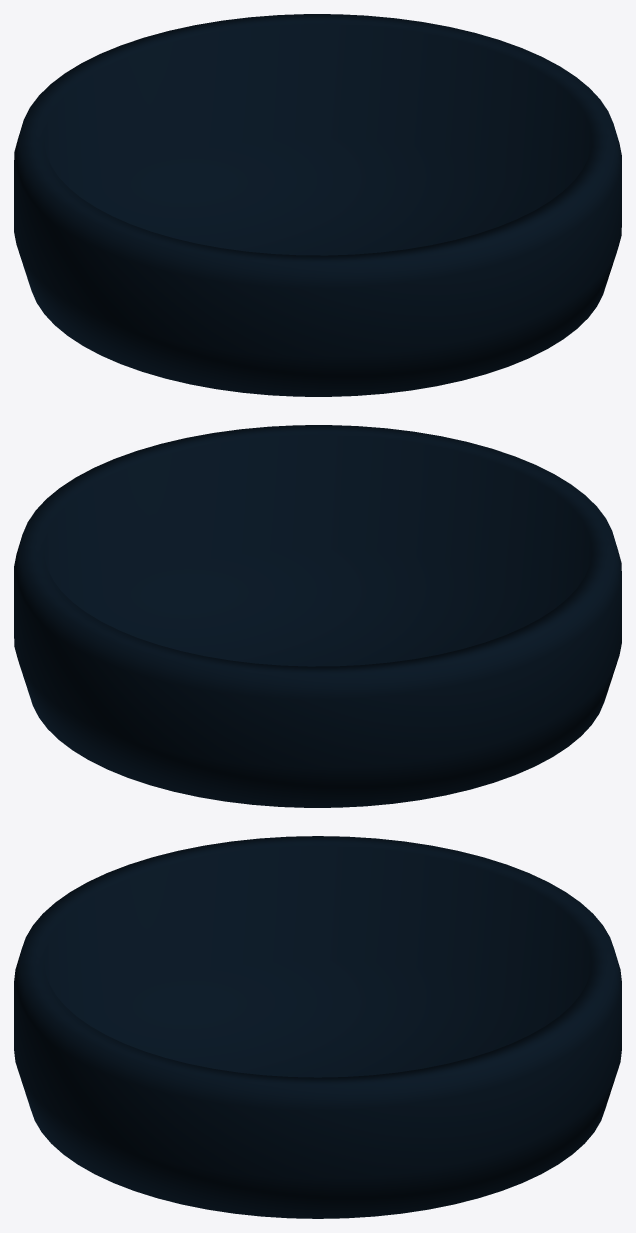
3 renders of one model, top to bottom at view 1: azimuth 30°, elevation 25°; view 2: azimuth 150°, elevation 25°; view 3: azimuth 270°, elevation 25°, orthographic.
Parts seen in each view (by area): view 1: loose_blue_cap__body; view 2: loose_blue_cap__body; view 3: loose_blue_cap__body.
Boxes of the visible parts, bbox=[...] form: loose_blue_cap__body: bbox=[14, 14, 621, 396]; loose_blue_cap__body: bbox=[14, 425, 621, 807]; loose_blue_cap__body: bbox=[14, 836, 621, 1218].
Bounding box in the file's own units: 0.0462 × 0.0113 × 0.0462.
